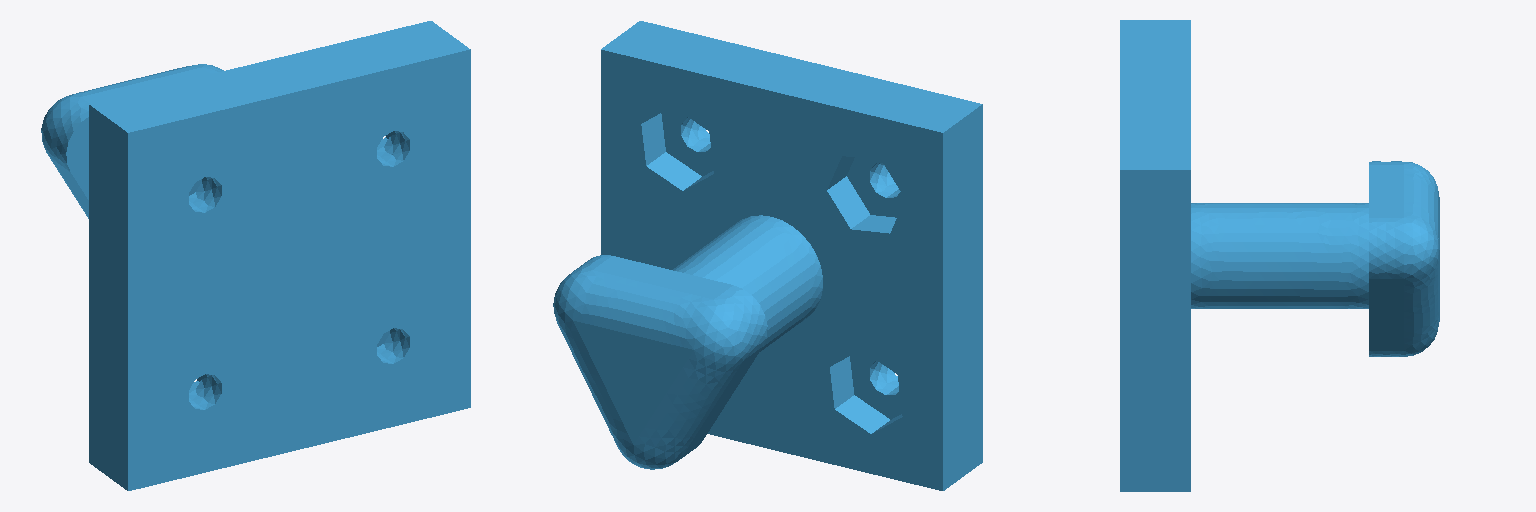
The robot description file, URDF, robot "triangle_6-2":
<?xml version="1.0"?>

<robot name="triangle_6-2">
	<link name="world">
        </link>

        <joint name="world_to_indenter" type="prismatic">
                <parent link="world"/>
                <child link="indenter"/>
                <origin rpy="0.0 0.0 0.0" xyz="0.0 0.0 0.0"/>
                <axis xyz="0 1 0"/>
                <dynamics damping="0.0" friction="0.0"/>
                <limit lower="0.0" upper="0.1" velocity="1e9" effort="1e9"/>
        </joint>

	<link name="indenter">
		<visual>
			<origin rpy="0.0 0.0 0.0" xyz="0.0 0.0 0.0"/>
			<geometry>
				<mesh filename="../meshes/triangle_6-2_0.2.stl" scale="0.001 0.001 0.001"/>
			</geometry>
		</visual>
		<collision>
			<origin rpy="0.0 0.0 0.0" xyz="0.0 0.0 0.0"/>
			<geometry>
				<mesh filename="../meshes/triangle_6-2_0.2.stl" scale="0.001 0.001 0.001"/>
			</geometry>
		</collision>
		<!-- <inertial>
			<origin rpy="0.0 0.0 0.0" xyz="0.0 -14.0636e-3 0.0"/>
			<mass value="0.00075752"/>
			<inertia ixx="2.03201e-8" iyy="1.24370e-8" izz="1.90589e-8" ixy="0.0" ixz="-1.96737e-15" iyz="0.0"/>
		</inertial> -->
	</link>
</robot>

--- Render facts (derived) ---
Views: 3 orthographic renders of the robot side by side, from view 1: azimuth 30°, elevation 25°; view 2: azimuth 150°, elevation 25°; view 3: azimuth 270°, elevation 25°.
Model triangle_6-2 with 2 links and 1 joints (1 prismatic), rooted at world, posed every joint at zero.
Visible links, largest first — view 1: indenter; view 2: indenter; view 3: indenter.
Link boxes in pixels (<box>): indenter: <box>41,21,470,490</box>; indenter: <box>553,21,982,490</box>; indenter: <box>1120,20,1439,491</box>.
Bounding box of the posed robot: 0.02 × 0.018 × 0.02 m (x, y, z).
1 mesh visuals loaded from 1 distinct referenced files (1 ASCII STL).
